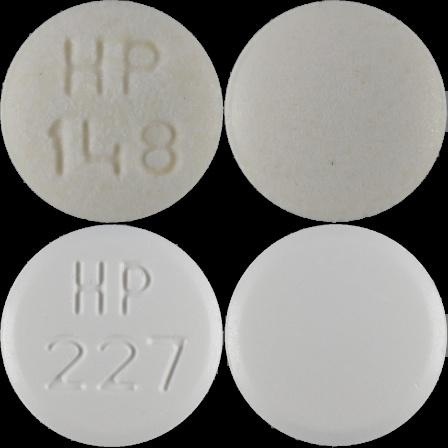23155-148: (0, 0, 224, 224)
